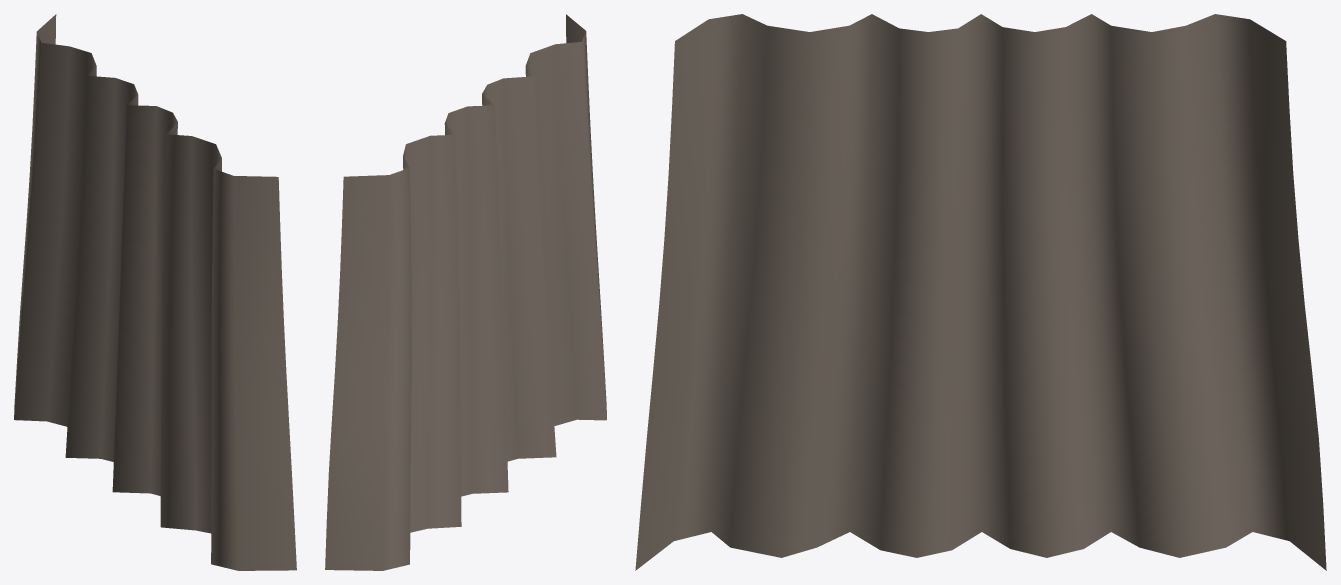
File: door_curtain.fbx
The picture shows the model from 3 angles, left to right: view 1: azimuth 30°, elevation 25°; view 2: azimuth 150°, elevation 25°; view 3: azimuth 270°, elevation 25°; orthographic projection. The views are drawn at different scales.
Visible parts, largest first — view 1: door_curtain; view 2: door_curtain; view 3: door_curtain.
Boxes of the visible parts, left/top/right/bottom form: door_curtain: left=14, top=14, right=296, bottom=570; door_curtain: left=325, top=14, right=606, bottom=570; door_curtain: left=635, top=14, right=1326, bottom=570.
Size of the model in its own units: 0.1083 by 0.6828 by 0.8112.
